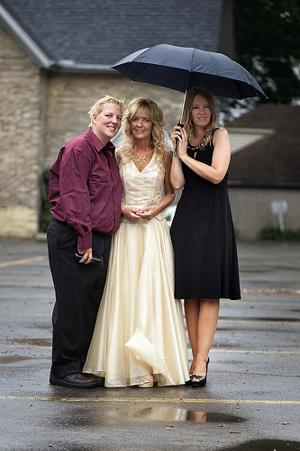person: (170, 84, 242, 386)
